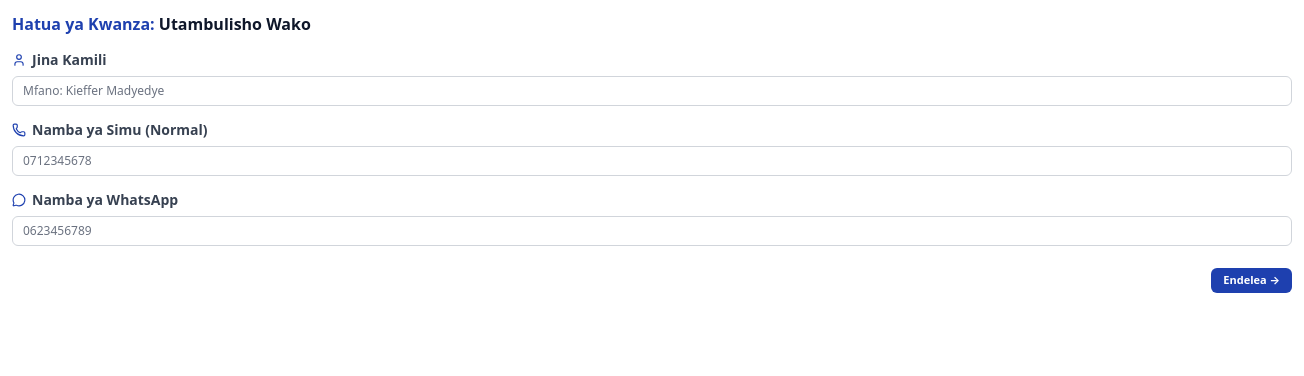
Test: Step1Identity › clears the error as soon as the value becomes valid
Click the button "Endelea →".
click(1252, 280)  # box [1211,268,1292,292]
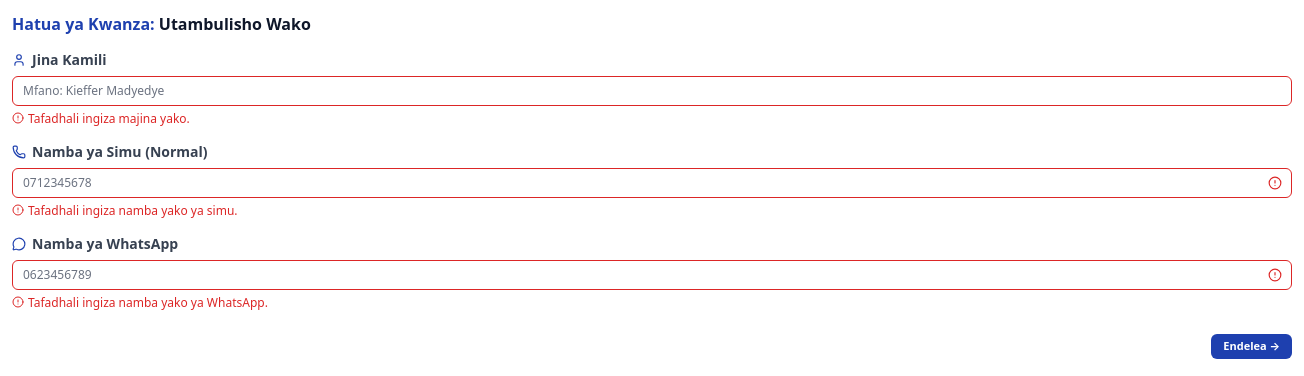
Expected: the text "Tafadhali ingiza majina yako." is shown, [28,110,190,128]
Type "Kieffer Madyedye" into the field with placeholder "Mfano: Kieffer Madyedye".
click(652, 91); type("Kieffer Madyedye")  # box [12,76,1292,106]
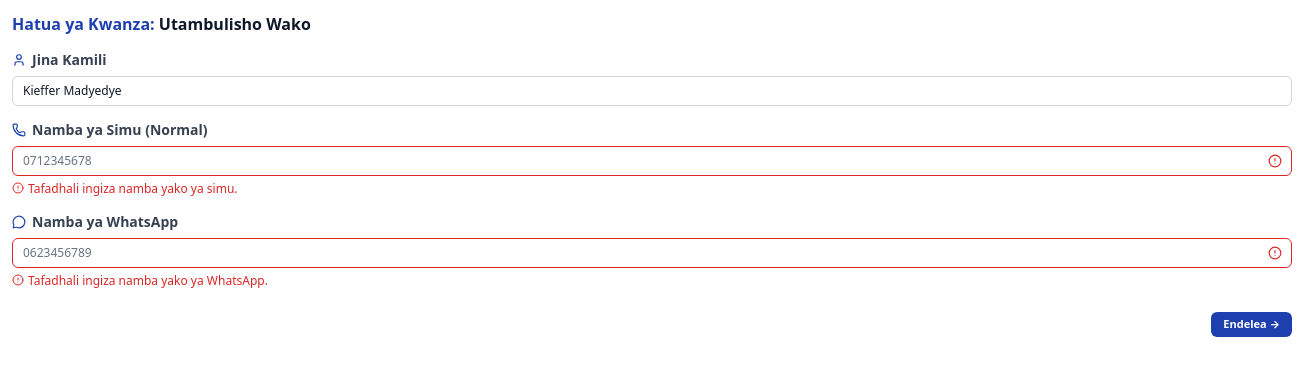
Expected: the text "Tafadhali ingiza majina yako." is gone
